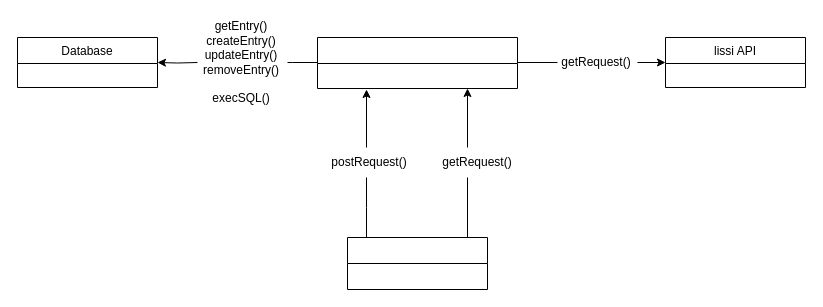
Some shapes in this 823 by 307 pixel diagram are drawn without their labels. The shapes that lost their labels are listed below. From the top down, each one's centre as x and y in pixels, then its label:
At (x=417, y=62): "Backend".
At (x=417, y=263): "Frontend".
